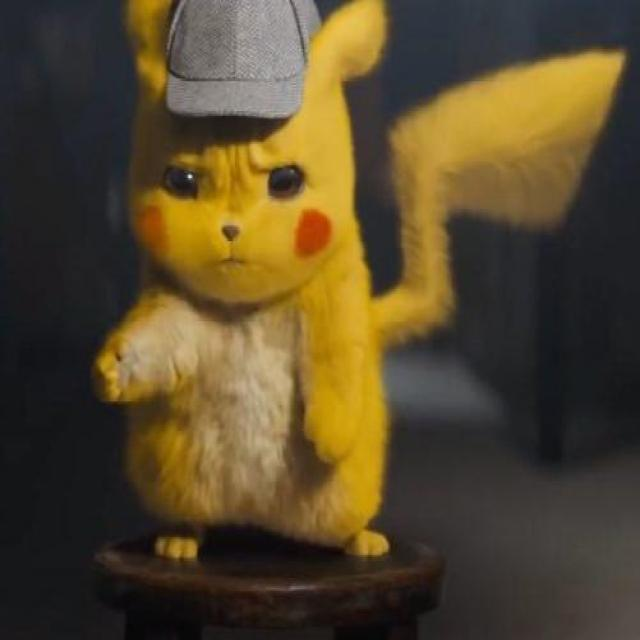pikachu: (94, 0, 628, 559)
